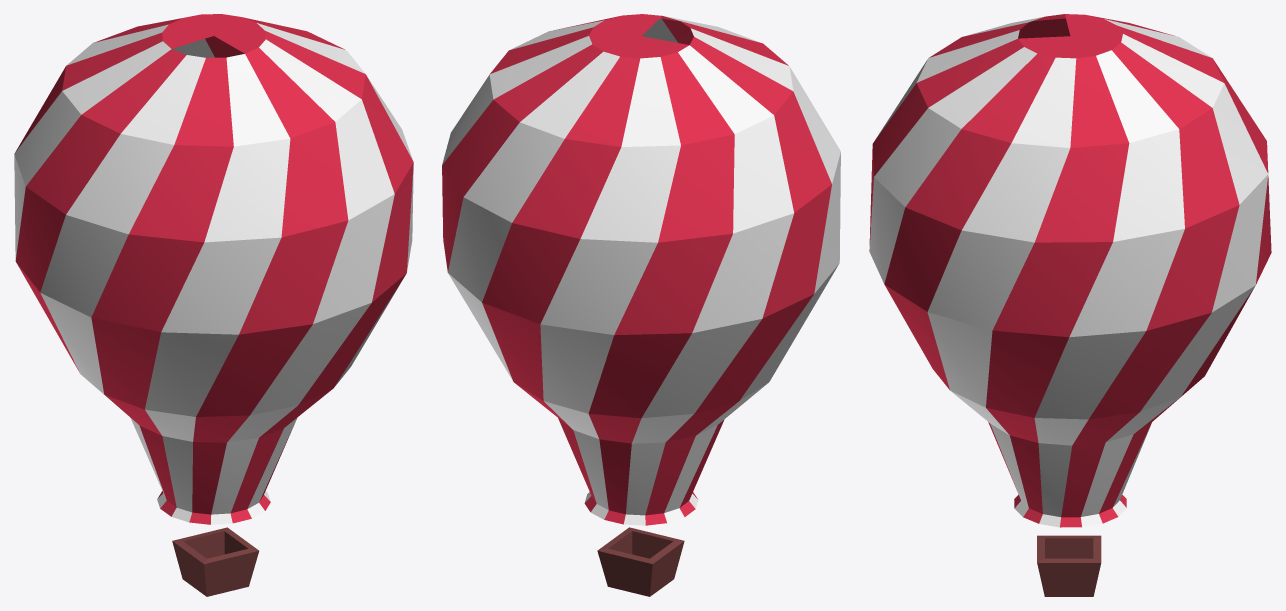
Rendered from AirBalloon.obj.
3 views of the same model, side by side, from view 1: azimuth 30°, elevation 25°; view 2: azimuth 150°, elevation 25°; view 3: azimuth 270°, elevation 25° (orthographic).
Parts seen in each view (by area): view 1: Cylinder.002; view 2: Cylinder.002; view 3: Cylinder.002.
Part boxes in pixels (bbox=[...]): Cylinder.002: bbox=[14, 14, 413, 596]; Cylinder.002: bbox=[442, 14, 840, 596]; Cylinder.002: bbox=[869, 14, 1271, 596].
Bounding box in the file's own units: 5.49 × 8.29 × 5.49.
1 material, 1 textured.
